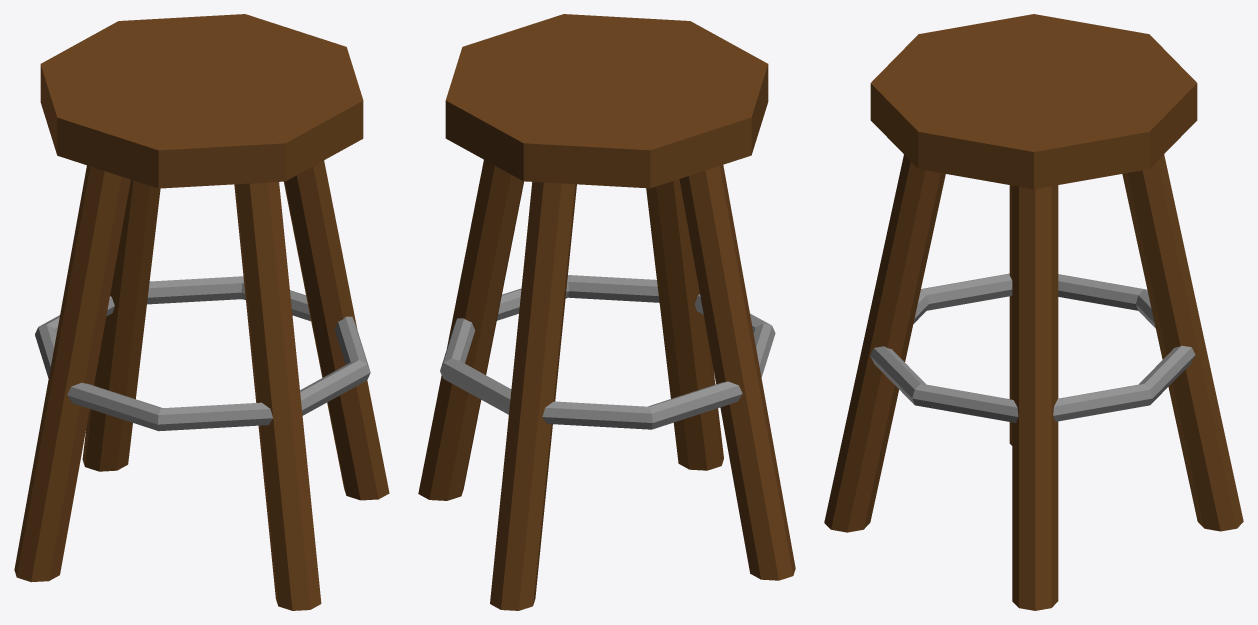
File: LowPolyStool.fbx
The picture shows the model from 3 angles, left to right: view 1: azimuth 30°, elevation 25°; view 2: azimuth 150°, elevation 25°; view 3: azimuth 270°, elevation 25°; orthographic projection. The views are drawn at different scales.
Visible parts, largest first — view 1: Cylinder.005; view 2: Cylinder.005; view 3: Cylinder.005.
Part boxes in pixels (left/top/right/bottom): Cylinder.005: left=14, top=14, right=389, bottom=610; Cylinder.005: left=418, top=14, right=795, bottom=610; Cylinder.005: left=824, top=14, right=1243, bottom=610.
Size of the model in its own units: 257 by 297 by 257.
